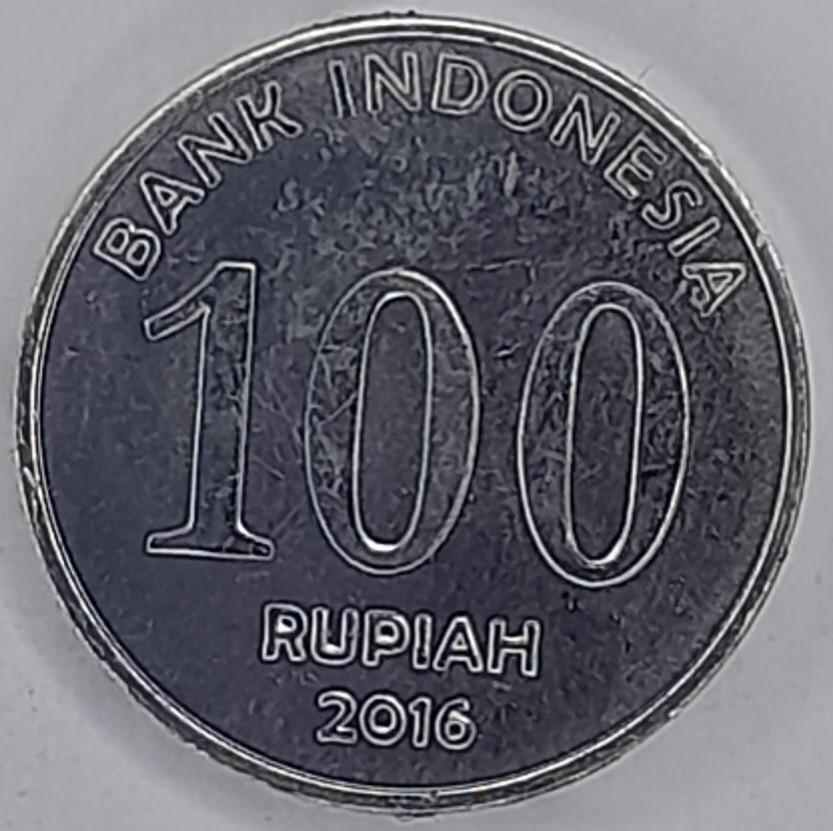coin_100_e2016: (8, 4, 816, 820)
